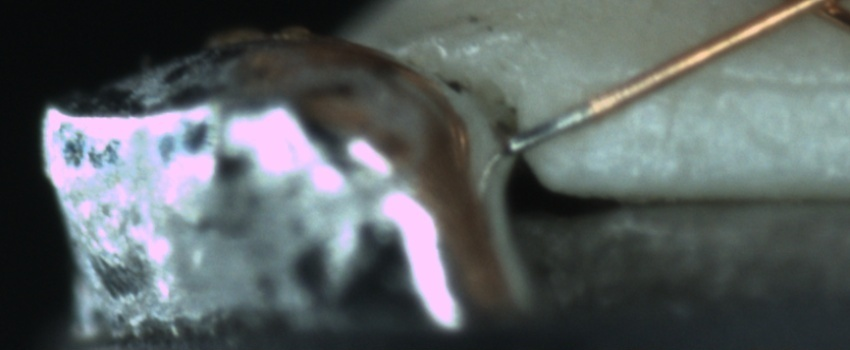CL: (765, 0, 850, 29)
DL: (645, 51, 849, 115)
TS: (510, 102, 596, 155)
TTCW: (508, 93, 616, 155)
